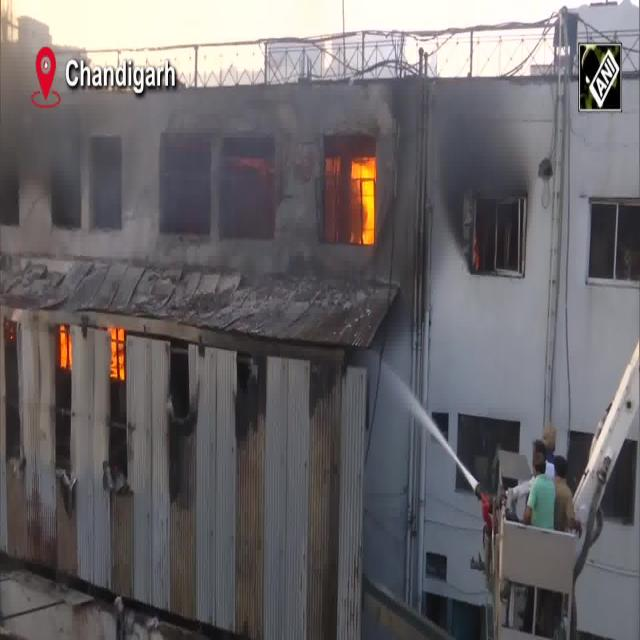fire: (353, 160, 374, 250)
smoke: (0, 51, 33, 155)
